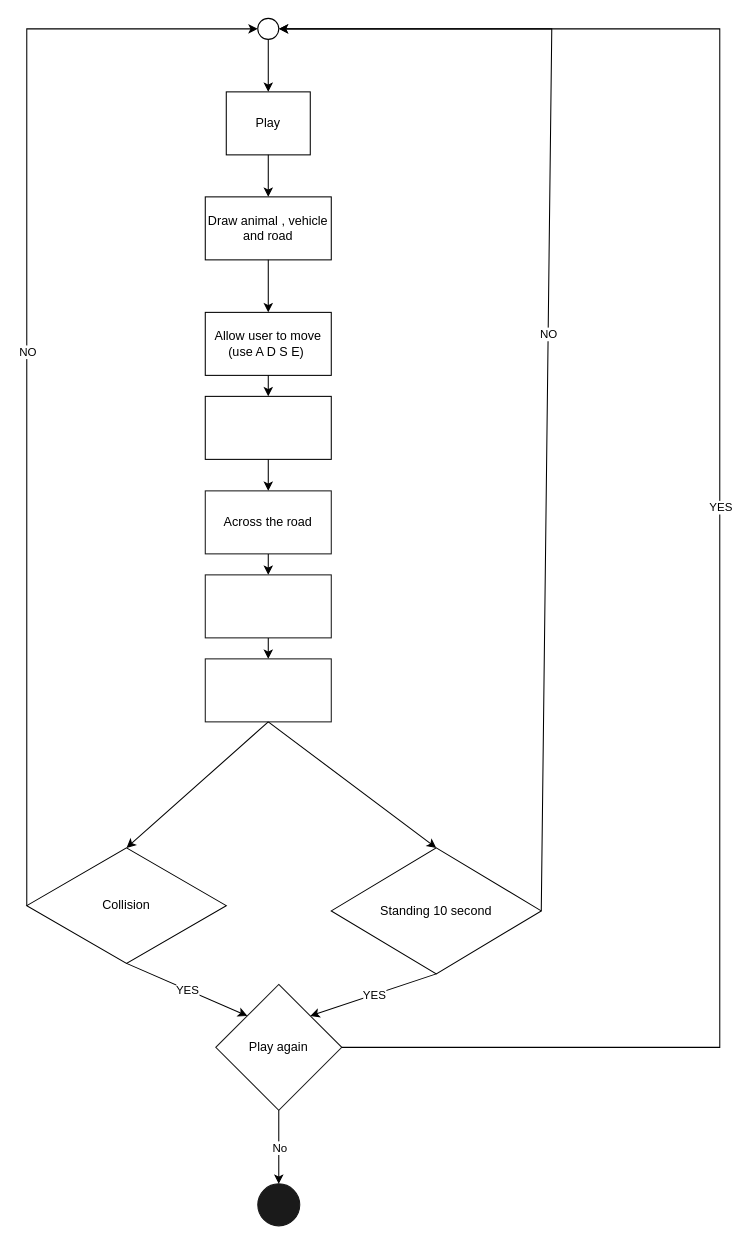
Image size: 750x1244. Some labels were removed from this diagram. Here are the shapes that lost their labels. From the top down, the centre of each, then its label:
the point at 267,427: Move the camera
the point at 267,606: Increase Level
the point at 267,690: Animal and vehicle move faster
